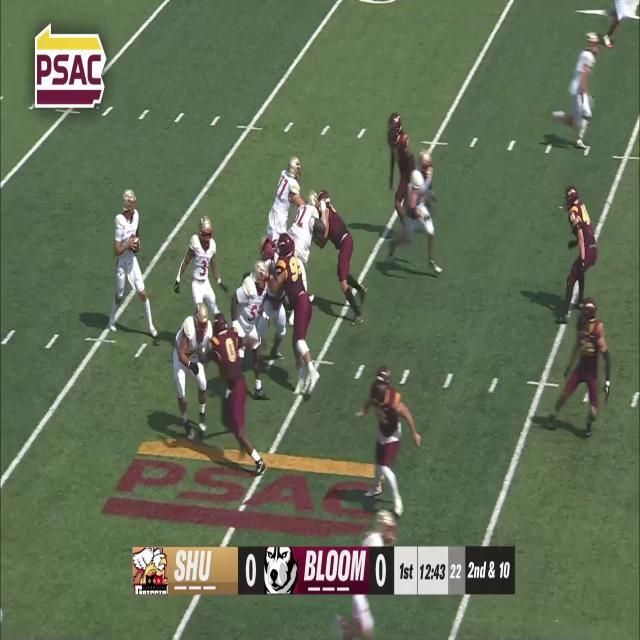football: (131, 233, 141, 254)
